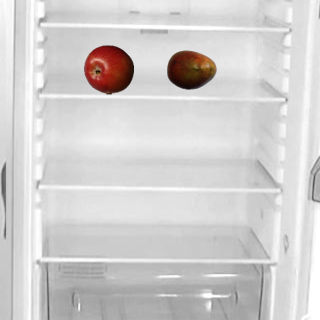Apple Braeburn: (83, 44, 133, 94)
Mango Red: (166, 44, 216, 94)
